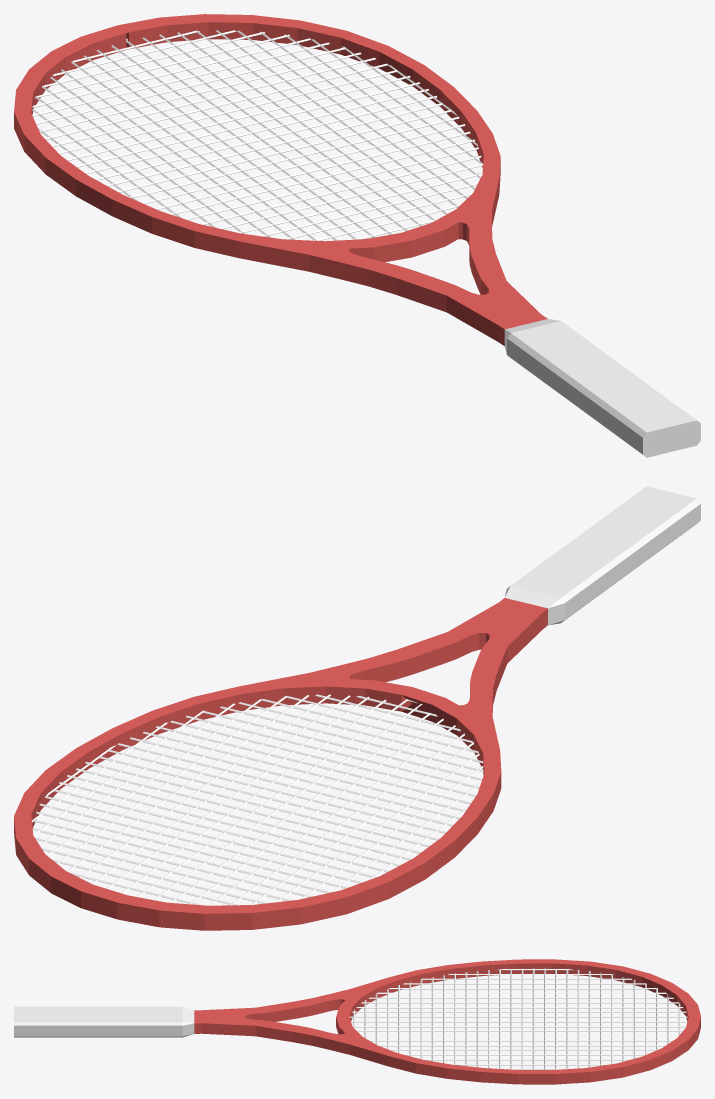
Rendered from racket.153eabf9.glb.
3 renders of one model, top to bottom at view 1: azimuth 30°, elevation 25°; view 2: azimuth 150°, elevation 25°; view 3: azimuth 270°, elevation 25°, orthographic. The views are drawn at different scales.
Visible parts, largest first — view 1: Plane; view 2: Plane; view 3: Plane.
Boxes of the visible parts, x1,y1,x2,y2 form: Plane: [14, 14, 700, 457]; Plane: [14, 486, 700, 930]; Plane: [14, 959, 700, 1084].
Bounding box in the file's own units: 1.89 × 0.1207 × 4.78.
